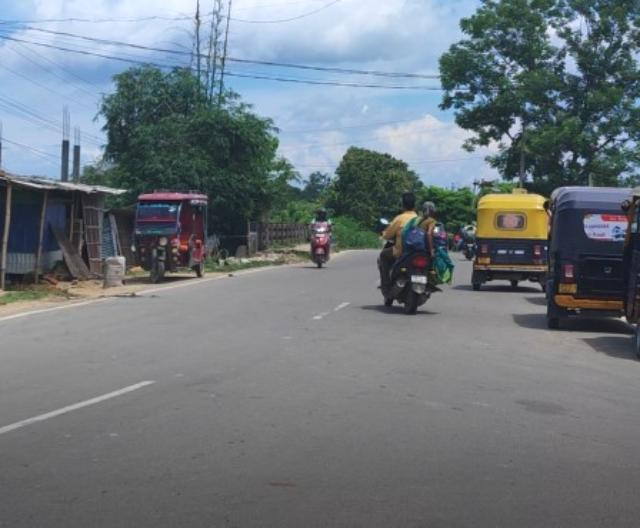licensePlate: (411, 273, 427, 284)
motorcycle: (377, 187, 445, 318), (305, 206, 334, 269)
withHelmet: (312, 209, 327, 222)
withoutHelmet: (398, 190, 413, 213), (420, 199, 436, 218)
